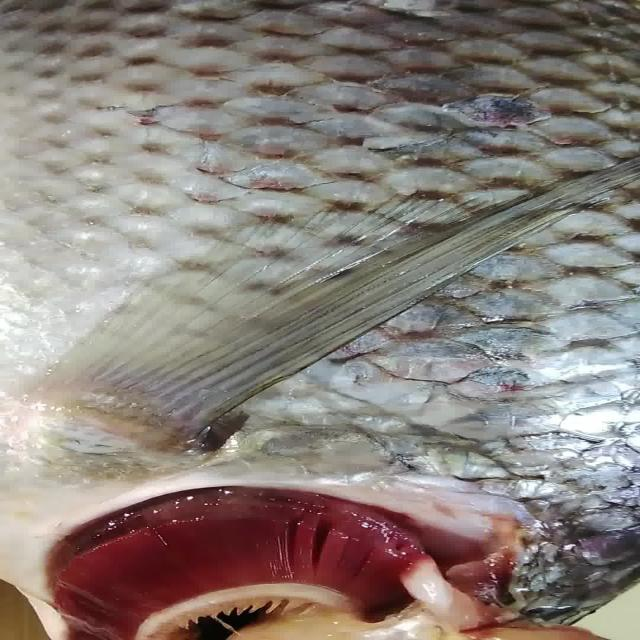Fresh: (120, 18, 640, 492), (20, 485, 494, 640)
